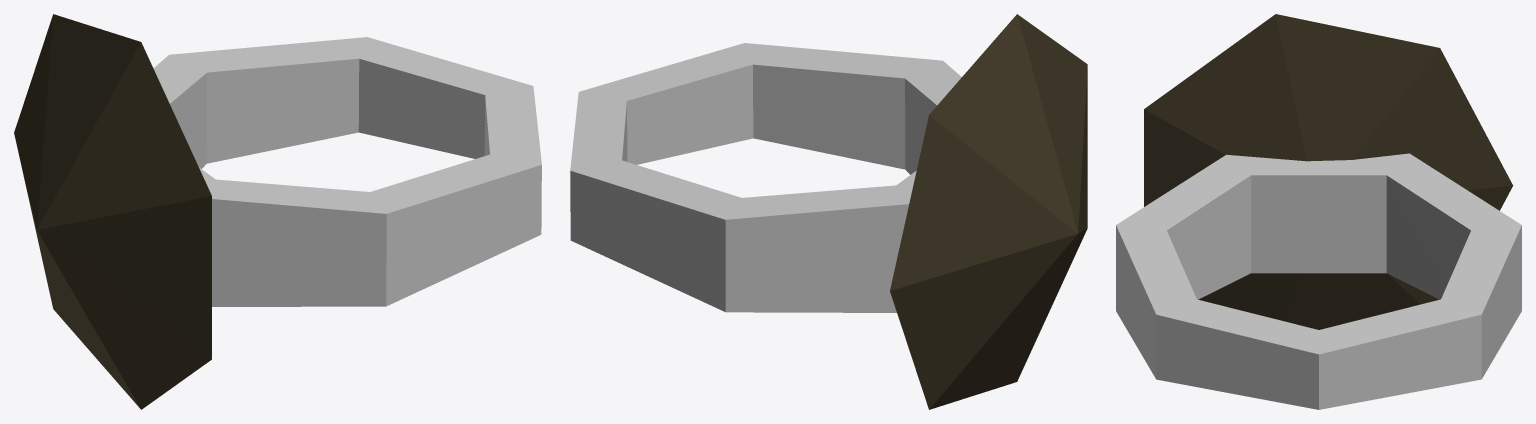
Rendered from ITMI_RING_01.OBJ.
3 renders of one model, left to right at view 1: azimuth 30°, elevation 25°; view 2: azimuth 150°, elevation 25°; view 3: azimuth 270°, elevation 25°, orthographic. The views are drawn at different scales.
Parts seen in each view (by area): view 1: ITMI_RING_01; view 2: ITMI_RING_01; view 3: ITMI_RING_01.
Boxes of the visible parts, bbox=[...] form: ITMI_RING_01: bbox=[14, 14, 541, 409]; ITMI_RING_01: bbox=[570, 14, 1087, 409]; ITMI_RING_01: bbox=[1116, 14, 1521, 409].
Size of the model in its own units: 0.0966 by 0.0682 by 0.0731.
